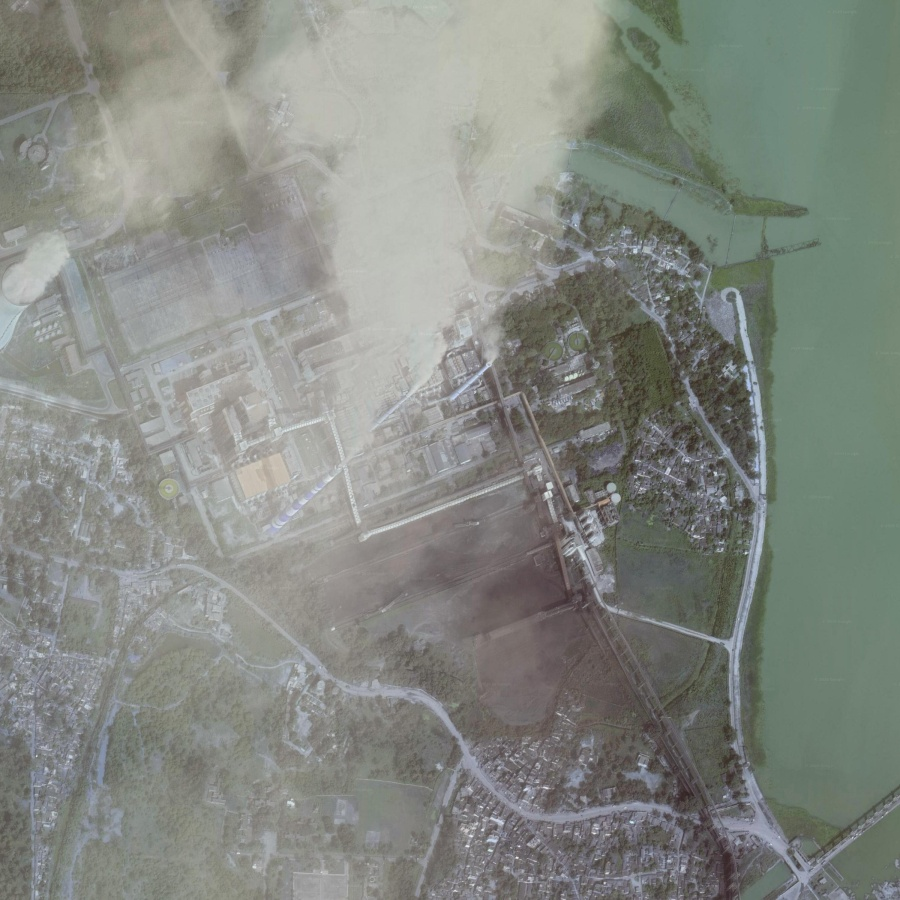PowerPlant: (229, 284, 519, 565)
